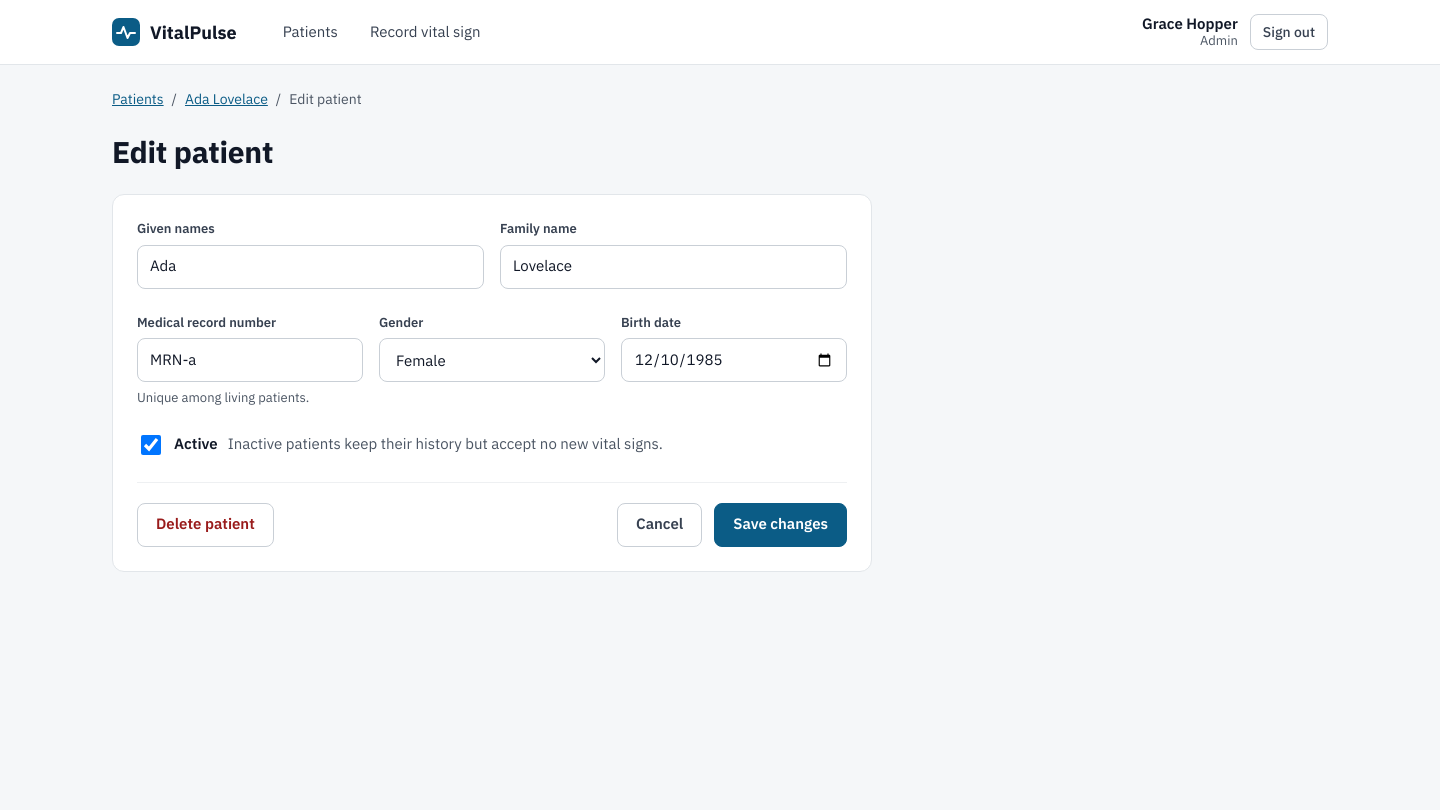
Test: Patient form page › updates with If-Match, keeping what the form does not show
The width and height of the screenshot is (1440, 810).
Replace the text in the field labelled "Family name" with "King" at (674, 266), box top-left (500, 244), bottom-right (847, 288)
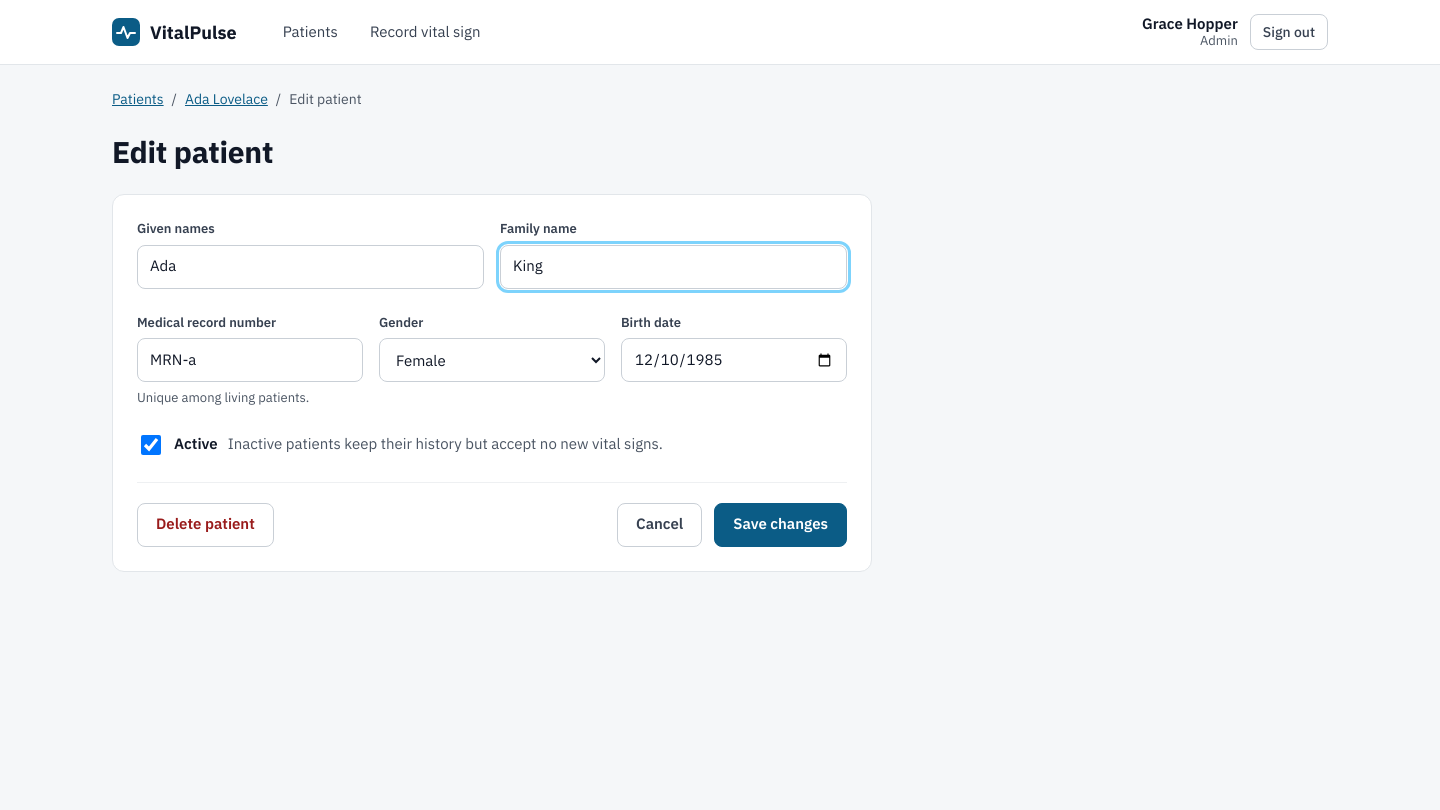
Click the checkbox labelled "Active".
click(151, 444)  # box top-left (141, 434), bottom-right (161, 454)
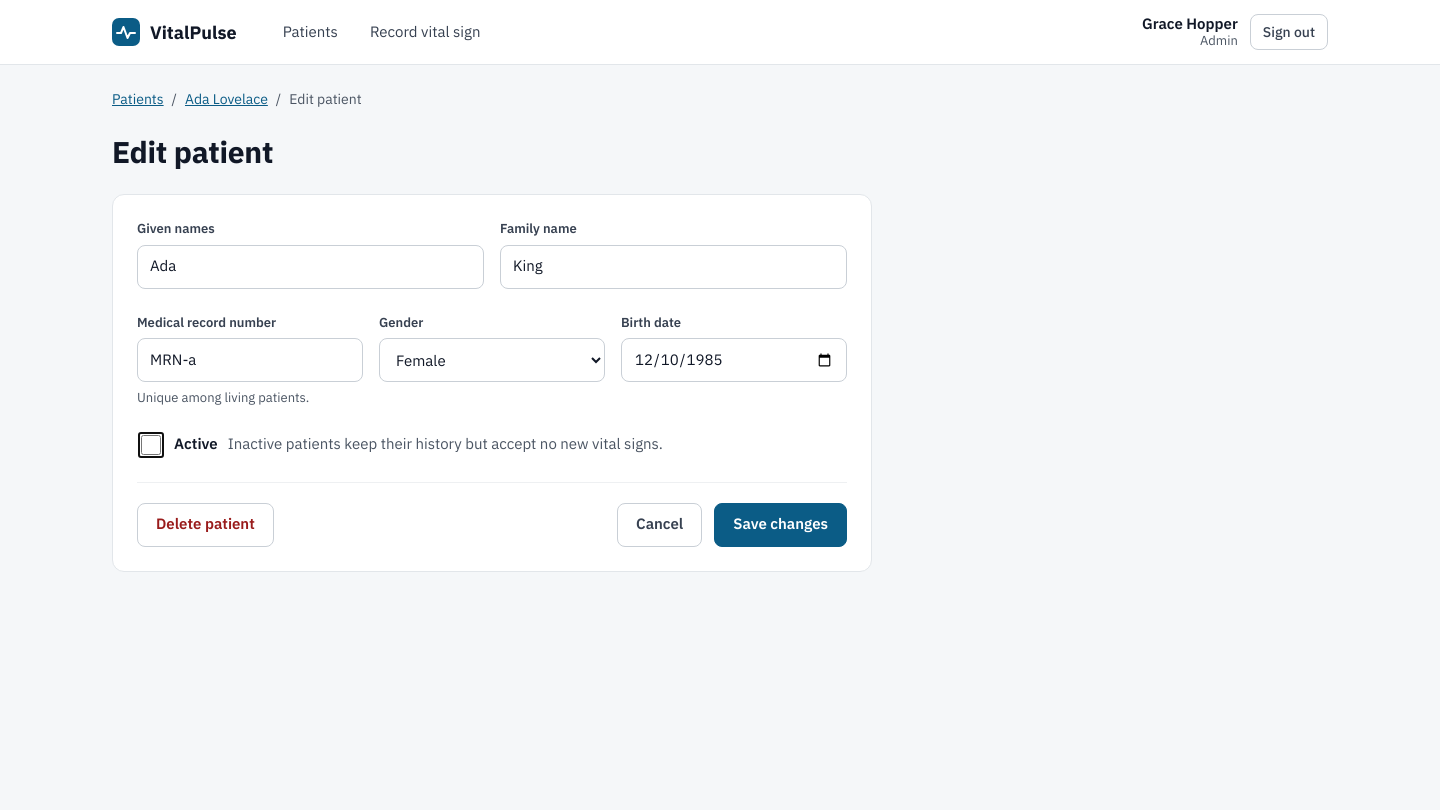
Click the button "Save changes".
click(781, 524)  # box top-left (714, 502), bottom-right (847, 546)
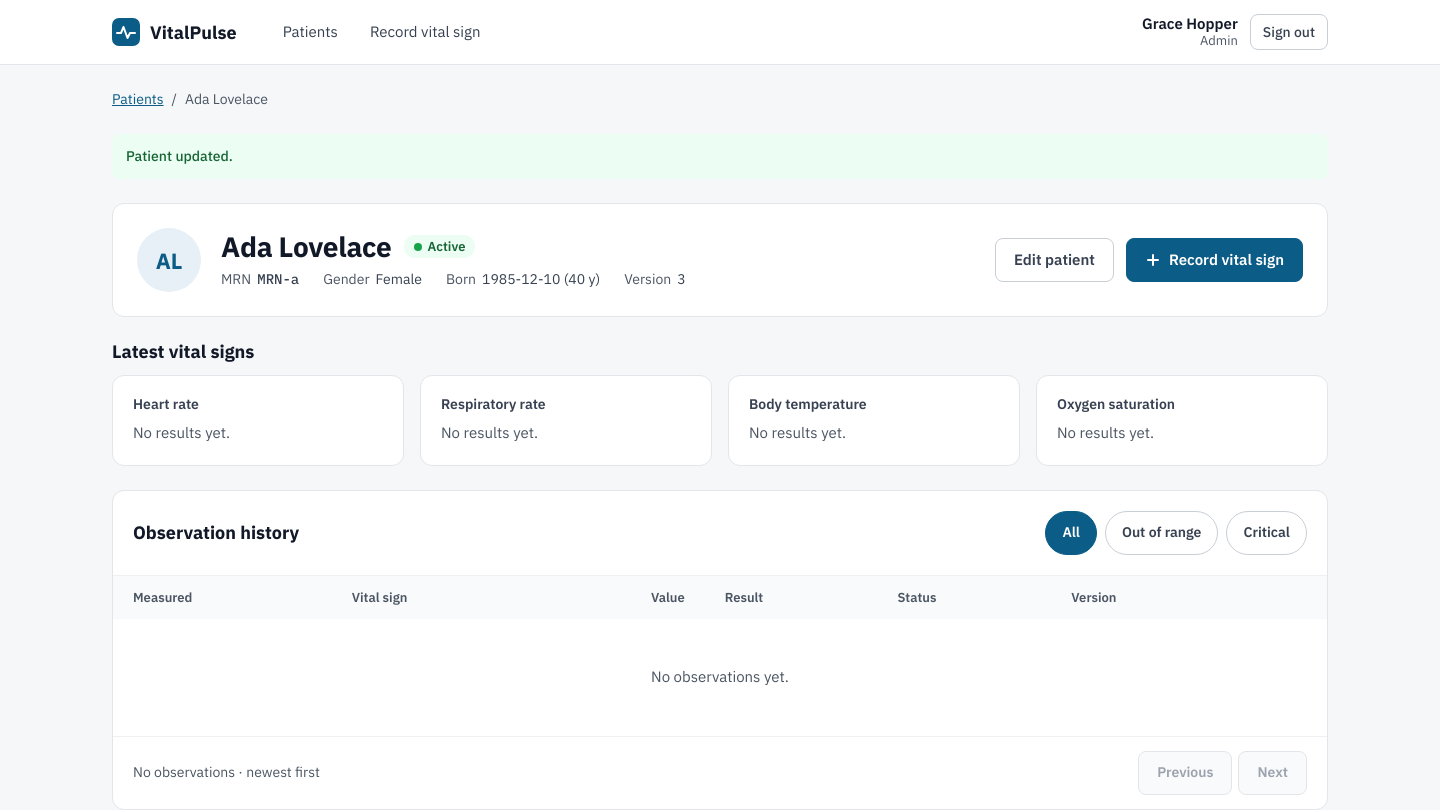
expect the message reads "Patient updated.": met, box top-left (126, 147), bottom-right (233, 165)
